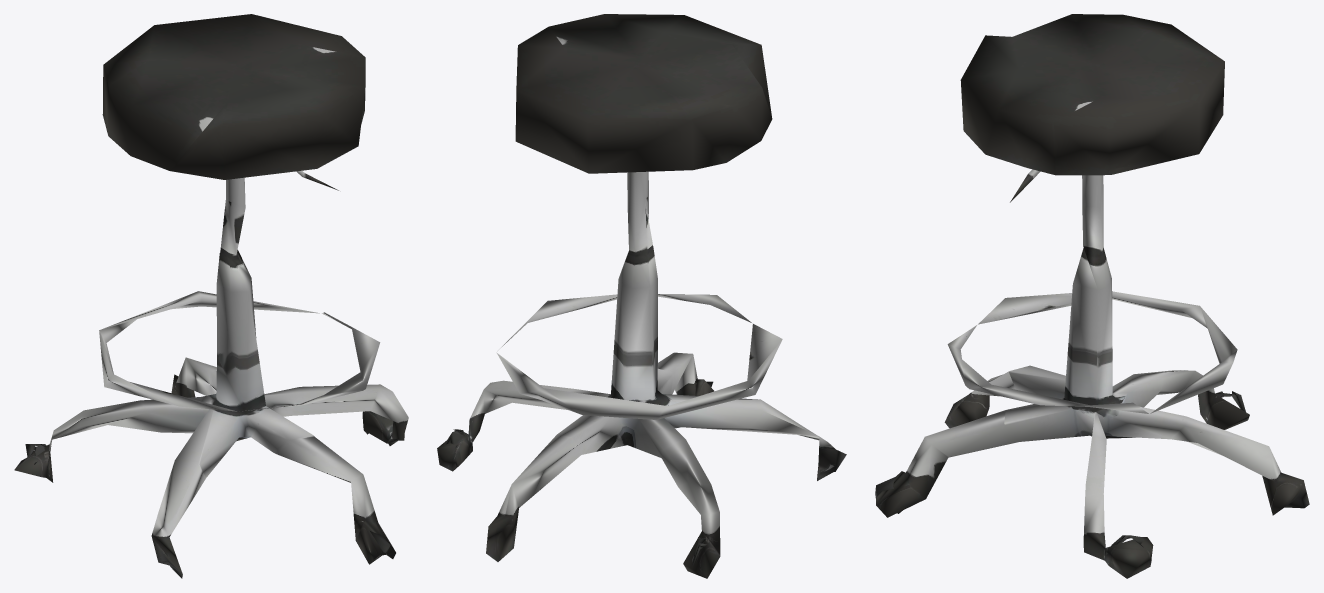
File: lab-stool.glb
3 renders of one model, left to right at view 1: azimuth 30°, elevation 25°; view 2: azimuth 150°, elevation 25°; view 3: azimuth 270°, elevation 25°, orthographic.
Visible parts, largest first — view 1: tripo_node_3413d74c-0dcc-4669-a211-3de1b2f5b182; view 2: tripo_node_3413d74c-0dcc-4669-a211-3de1b2f5b182; view 3: tripo_node_3413d74c-0dcc-4669-a211-3de1b2f5b182.
Boxes of the visible parts, x1,y1,x2,y2 form: tripo_node_3413d74c-0dcc-4669-a211-3de1b2f5b182: (14, 14, 408, 578); tripo_node_3413d74c-0dcc-4669-a211-3de1b2f5b182: (437, 14, 846, 578); tripo_node_3413d74c-0dcc-4669-a211-3de1b2f5b182: (875, 14, 1309, 578).
Size of the model in its own units: 0.7549 by 0.994 by 0.9006.
1 material, 1 textured.
